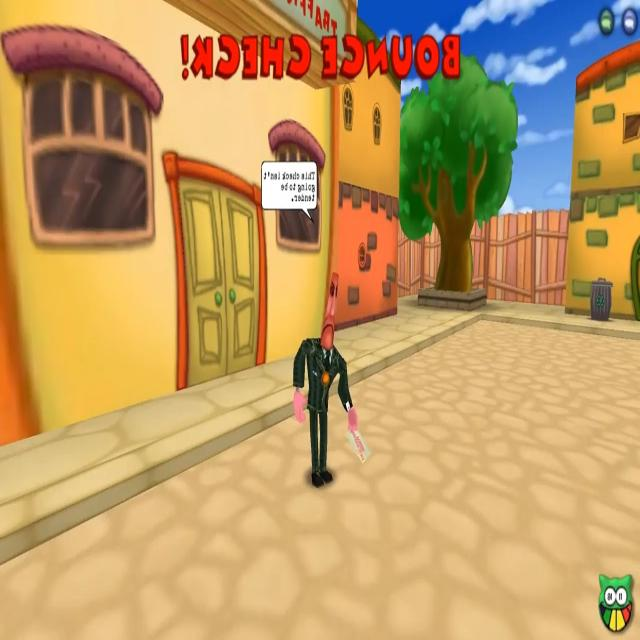pennypincher: (293, 273, 366, 488)
